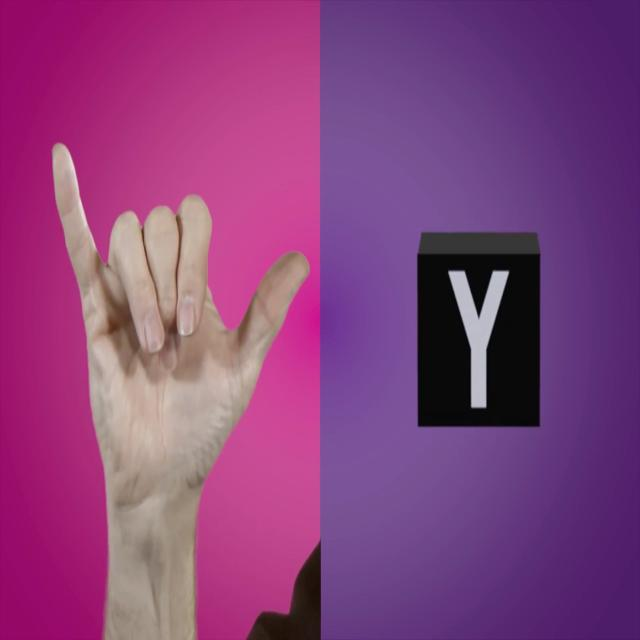Y: (36, 106, 320, 640)
